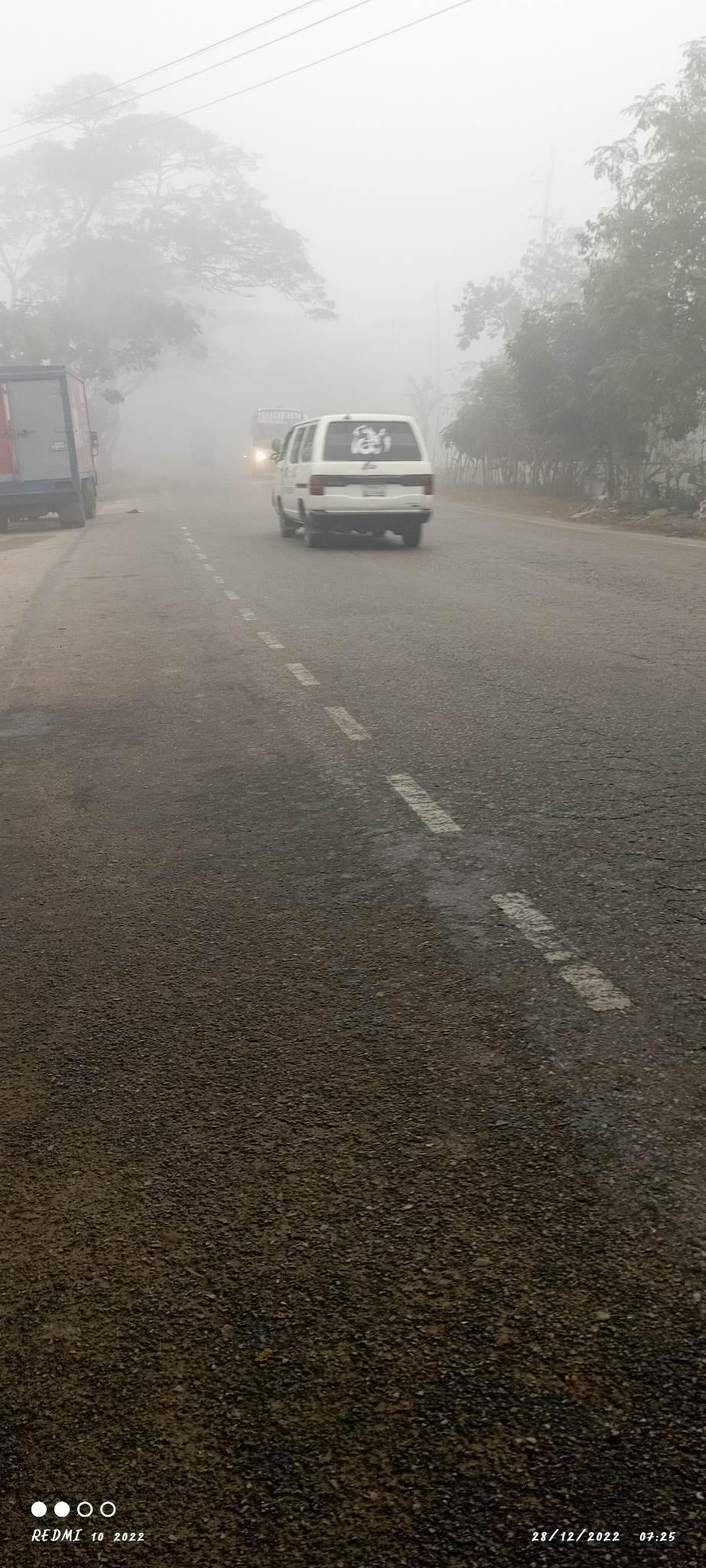Car: (250, 393, 457, 577)
Truck: (6, 342, 148, 550)
